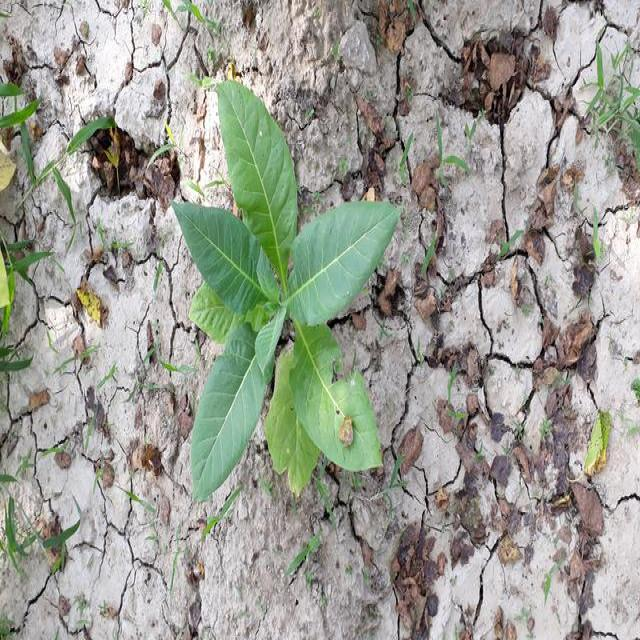crop: (160, 70, 402, 507)
